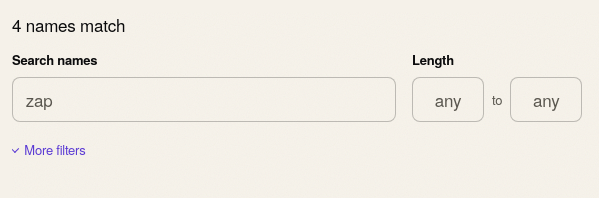
Scenario: Toolbar length range › reports a typed 100 the same way the same value in a link is reported
In the number field named "Shortest label length": (448, 100) [412,77,484,122], type "100"
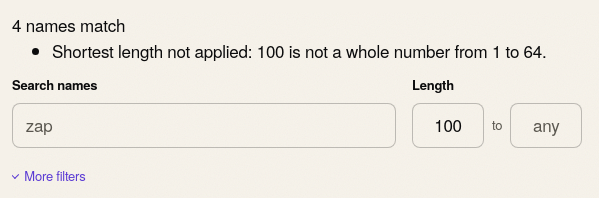
Result: the list "not applied" reads "Shortest length not applied: 100 is not a whole number from 1 to 64." at [52,38,546,62]
